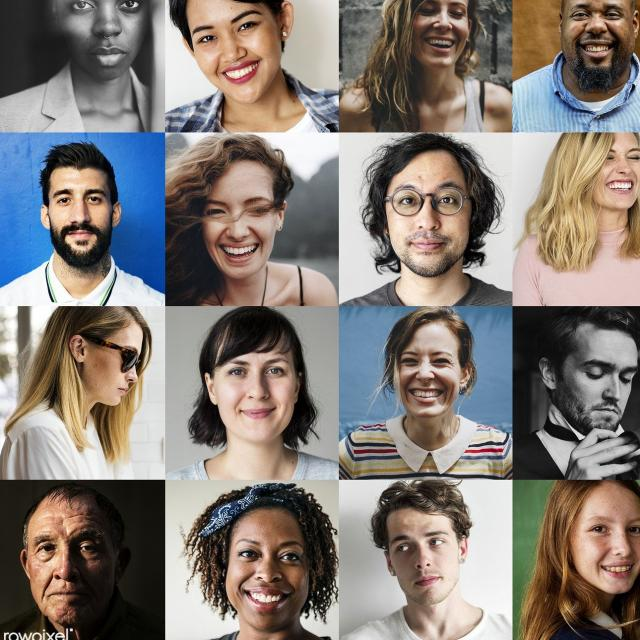Glasses: (383, 184, 474, 217), (89, 333, 143, 375)
